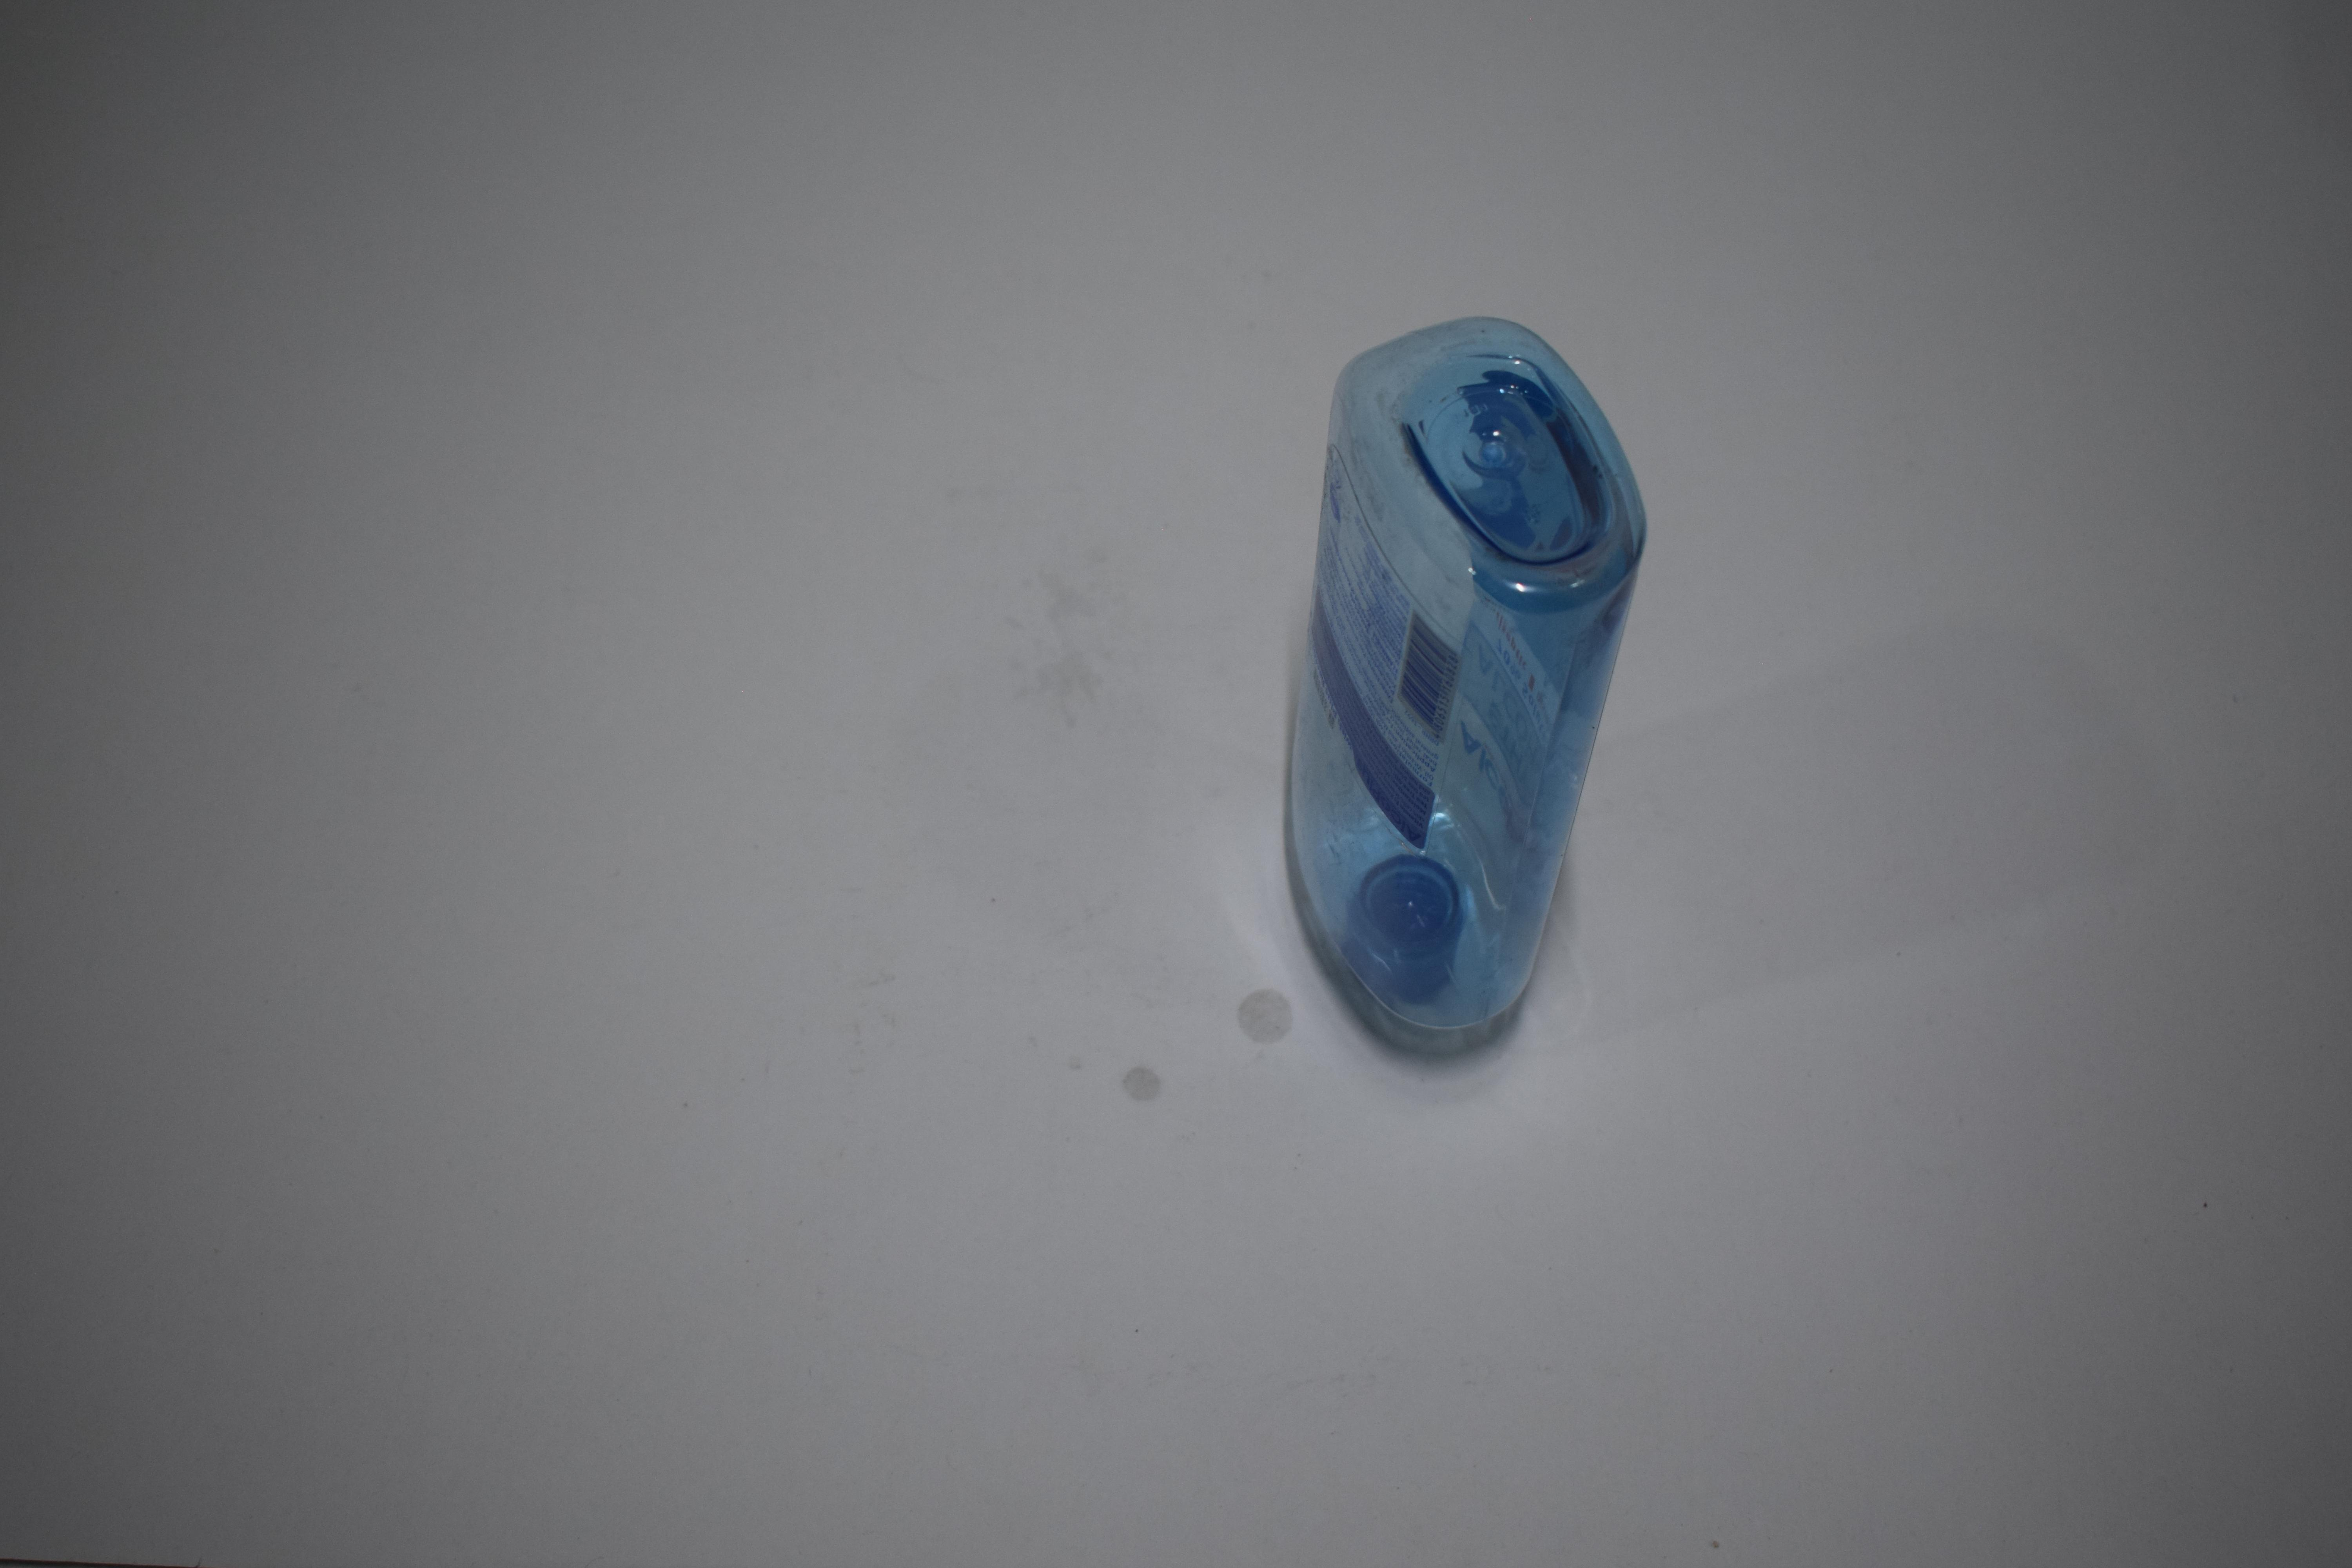bottle: (1272, 303, 1654, 1073)
